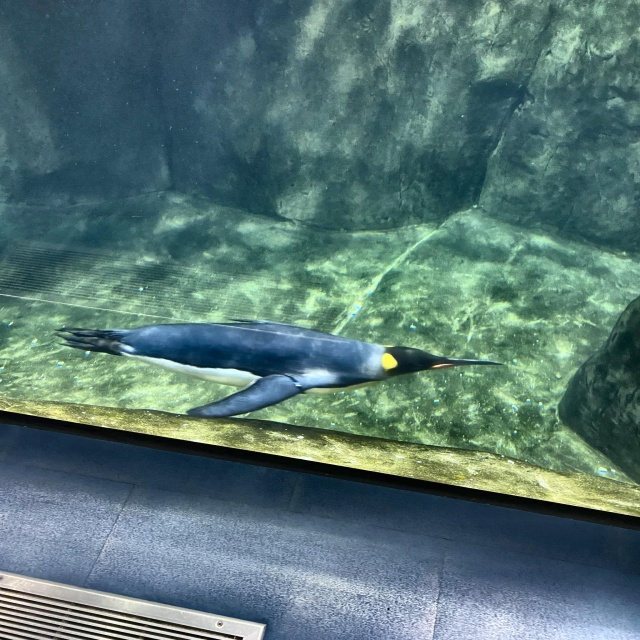penguin: (57, 314, 507, 414)
